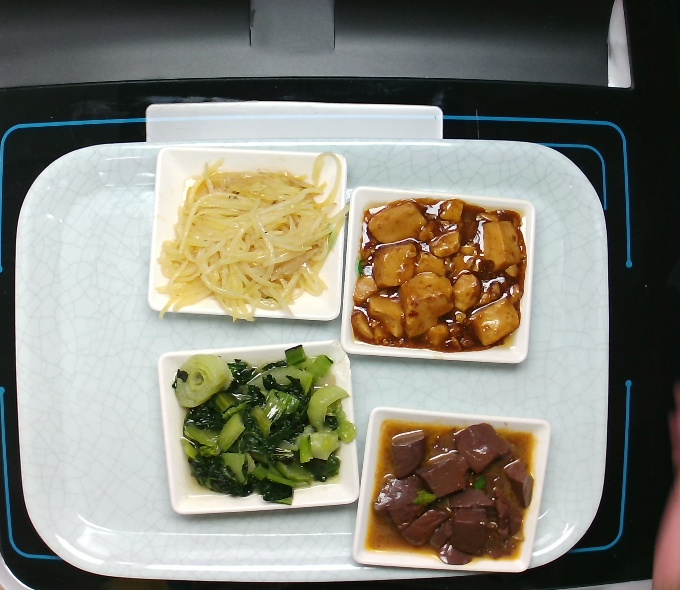wcq-MaPoDouFu: (359, 192, 518, 360)
wcq-NiuXue: (369, 414, 528, 582)
wcq-TuDouSi: (161, 150, 320, 318)
wcq-YouDongCai: (176, 337, 335, 505)
